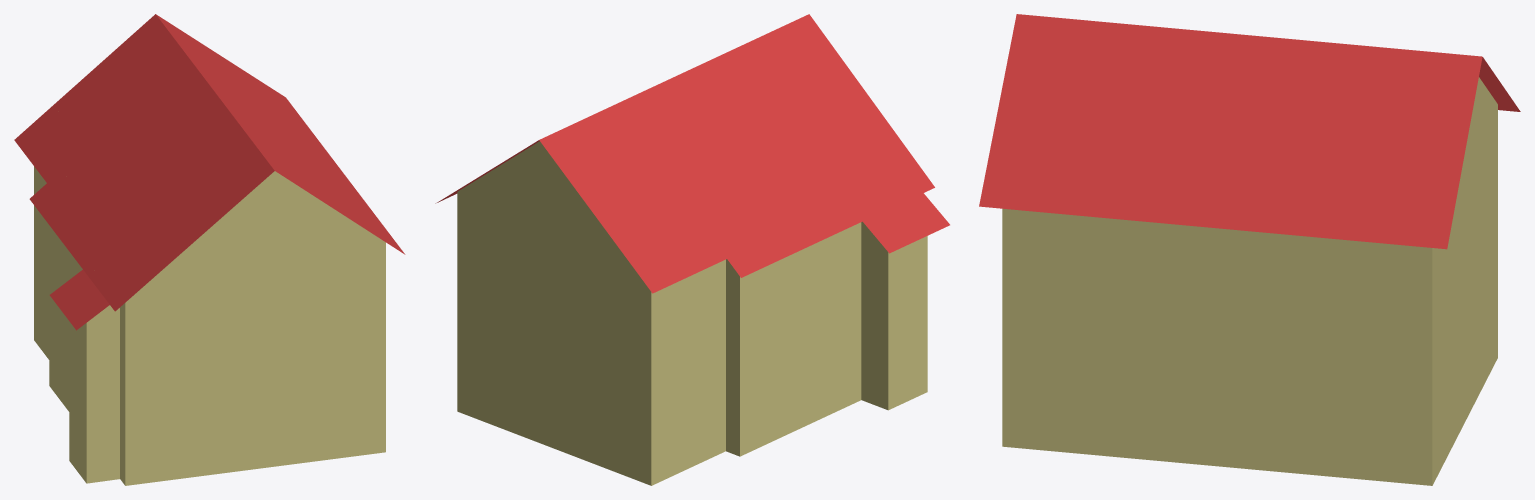
3 renders of one model, left to right at view 1: azimuth 30°, elevation 25°; view 2: azimuth 150°, elevation 25°; view 3: azimuth 270°, elevation 25°, orthographic. The views are drawn at different scales.
Size of the model in its own units: 19.49 by 21.09 by 15.89.
